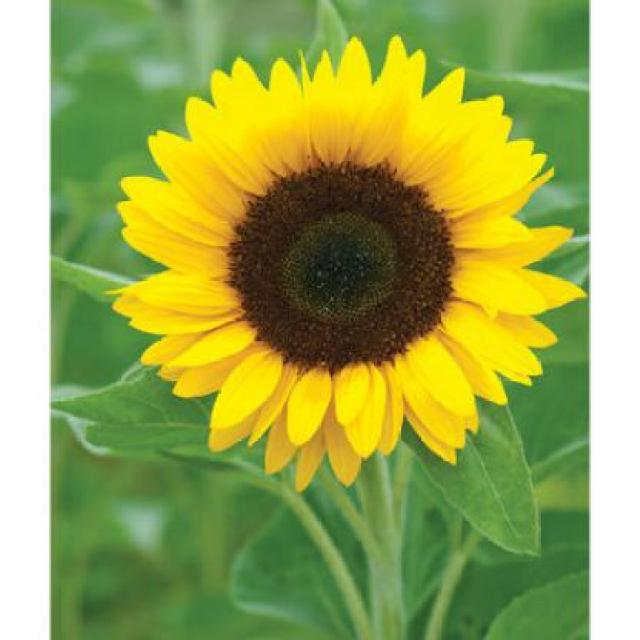sunflower: (121, 43, 582, 505)
